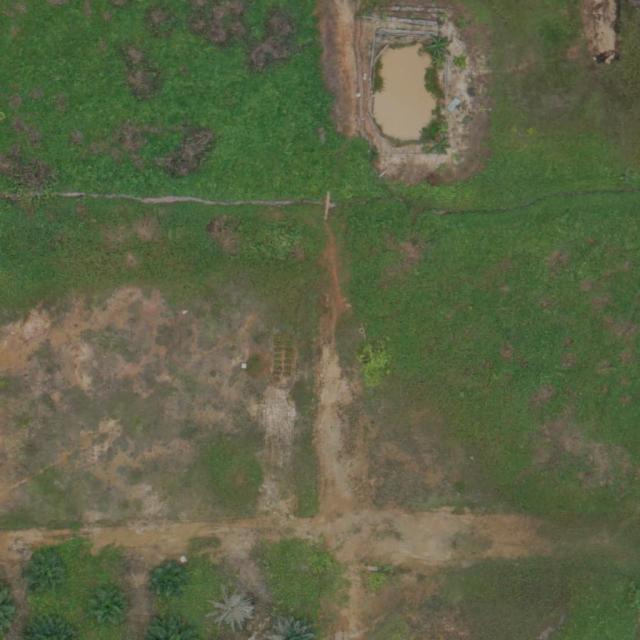Dead: (209, 586, 256, 634)
Small: (88, 585, 128, 625), (28, 556, 67, 595), (149, 561, 188, 600)
